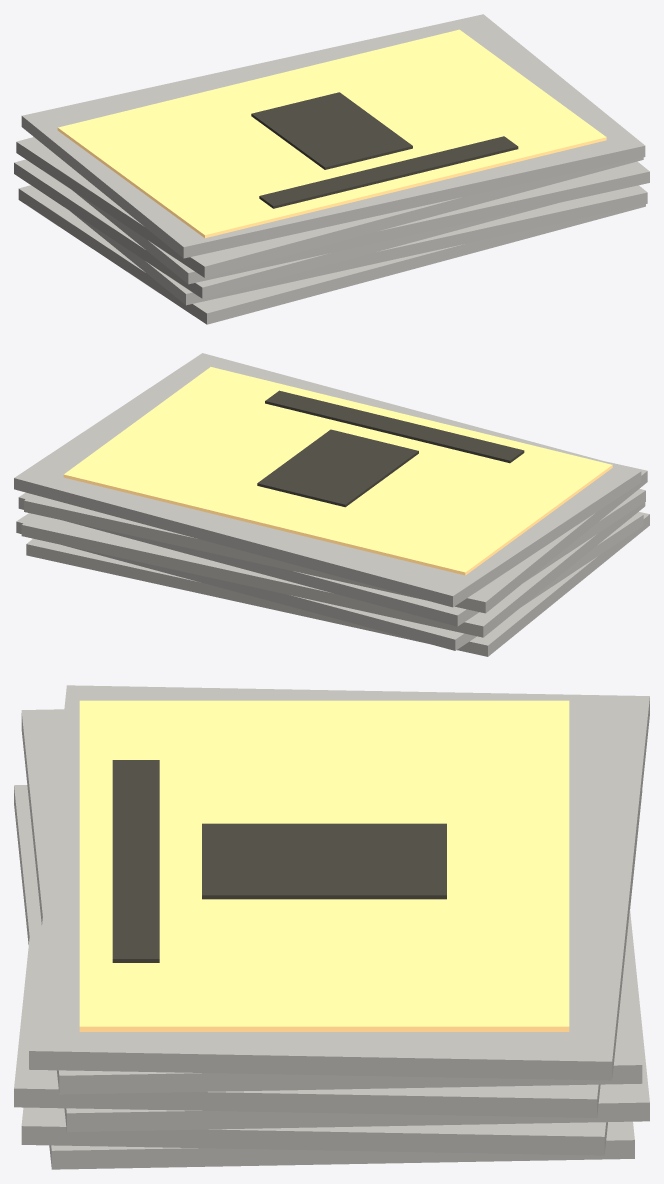
Rendered from prop-cards-kombi.glb.
3 views of the same model, one above another, from view 1: azimuth 30°, elevation 25°; view 2: azimuth 150°, elevation 25°; view 3: azimuth 270°, elevation 25° (orthographic). The views are drawn at different scales.
Visible parts, largest first — view 1: card_face, card_5, card_4, card_0, card_3, card_1, card_emblem, card_2, card_emblem_bar; view 2: card_face, card_5, card_2, card_4, card_0, card_emblem, card_1, card_3, card_emblem_bar; view 3: card_face, card_5, card_emblem, card_3, card_4, card_1, card_0, card_2, card_emblem_bar.
Part boxes in pixels (x1,y1,x2,y2): card_face: (57,29,606,238); card_5: (21,14,645,258); card_4: (16,137,643,277); card_0: (18,185,645,324); card_3: (73,161,649,284); card_1: (70,185,647,305); card_emblem: (251,92,412,169); card_2: (14,159,556,298); card_emblem_bar: (259,136,518,208); card_face: (63,367,612,575); card_5: (14,353,641,607); card_2: (21,502,645,637); card_4: (24,462,647,613); card_0: (26,512,649,656); card_emblem: (257,429,418,507); card_1: (16,513,643,650); card_3: (18,488,645,626); card_emblem_bar: (265,390,524,463); card_face: (79,700,569,1031); card_5: (29,685,649,1080); card_emblem: (202,823,446,899); card_3: (14,874,600,1117); card_4: (21,709,642,1094); card_1: (21,791,642,1155); card_0: (14,785,634,1169); card_2: (64,910,649,1131); card_emblem_bar: (112,760,159,962).
Bounding box in the file's own units: 0.9582 × 0.143 × 0.6755.
